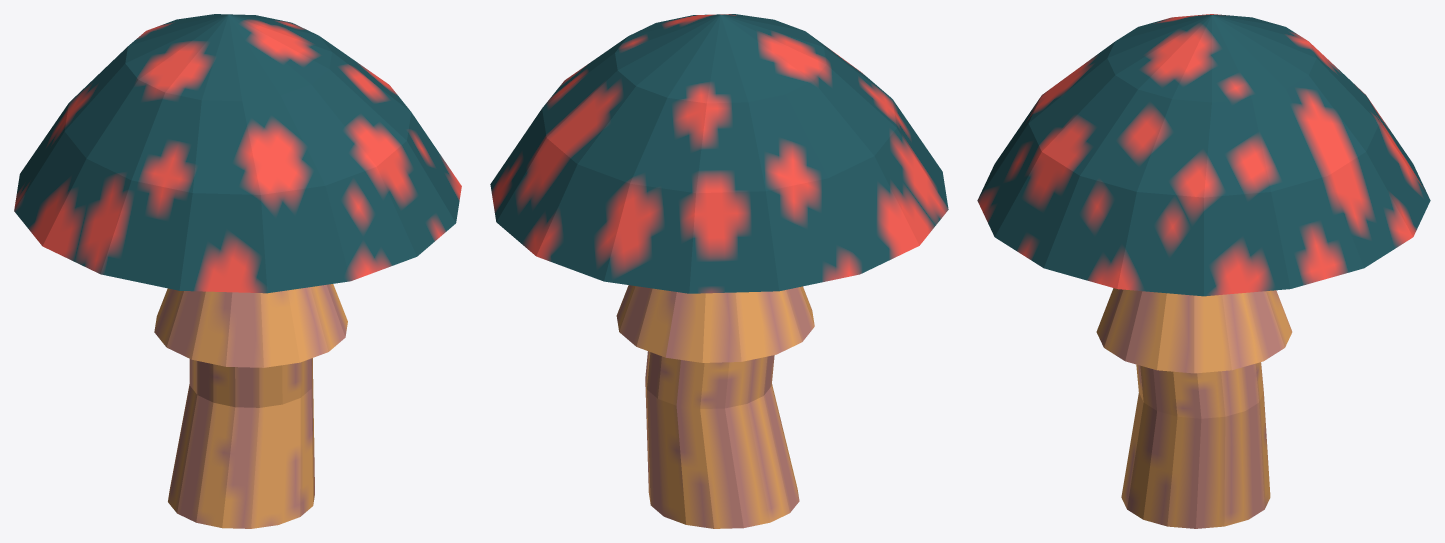
Rendered from Mushroom_Test2.obj.
3 renders of one model, left to right at view 1: azimuth 30°, elevation 25°; view 2: azimuth 150°, elevation 25°; view 3: azimuth 270°, elevation 25°, orthographic. The views are drawn at different scales.
Visible parts, largest first — view 1: Amanita_1_Cylinder.002; view 2: Amanita_1_Cylinder.002; view 3: Amanita_1_Cylinder.002.
Part boxes in pixels (box(x1,y1,x2,y2)): Amanita_1_Cylinder.002: box(14, 14, 461, 528); Amanita_1_Cylinder.002: box(490, 14, 948, 528); Amanita_1_Cylinder.002: box(977, 14, 1430, 528).
Size of the model in its own units: 1.39 by 1.62 by 1.39.
